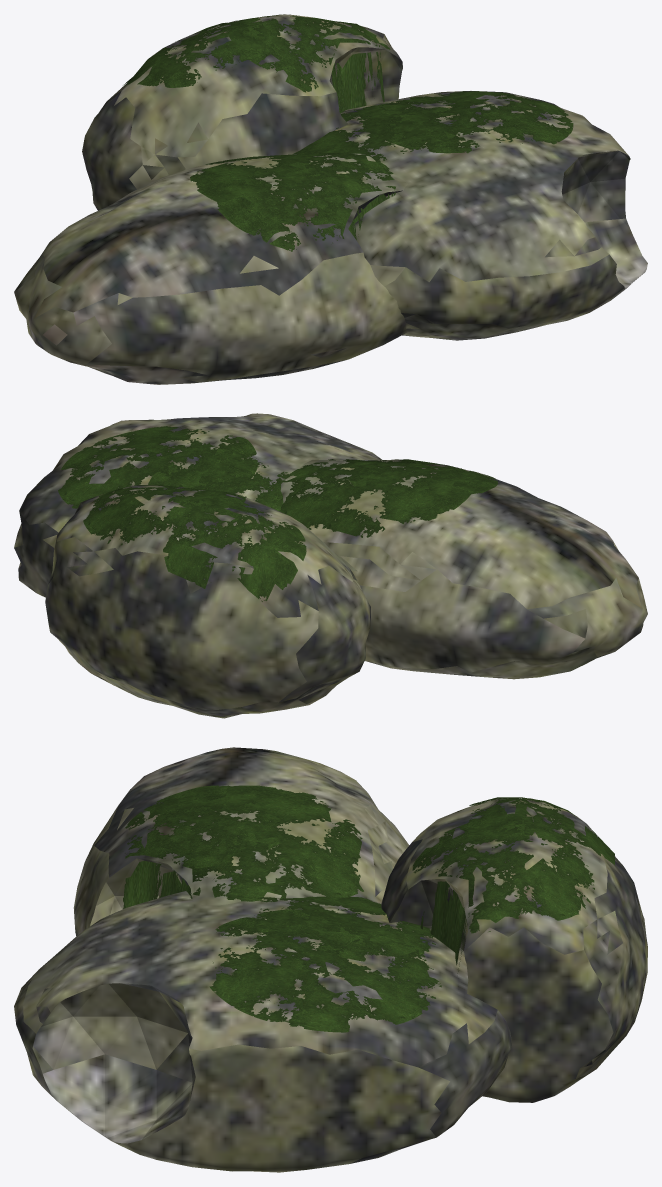
The model's file is v6_fractured.glb.
3 views of the same model, one above another, from view 1: azimuth 30°, elevation 25°; view 2: azimuth 150°, elevation 25°; view 3: azimuth 270°, elevation 25° (orthographic). The views are drawn at different scales.
Parts seen in each view (by area): view 1: sacred_weathered_stone_surface, v6_surface_moss_surface; view 2: sacred_weathered_stone_surface, v6_surface_moss_surface; view 3: sacred_weathered_stone_surface, v6_surface_moss_surface.
Part boxes in pixels (bbox=[...]): sacred_weathered_stone_surface: bbox=[14, 14, 647, 384]; v6_surface_moss_surface: bbox=[122, 14, 573, 251]; sacred_weathered_stone_surface: bbox=[14, 413, 647, 718]; v6_surface_moss_surface: bbox=[58, 426, 498, 601]; sacred_weathered_stone_surface: bbox=[14, 747, 647, 1172]; v6_surface_moss_surface: bbox=[123, 785, 614, 1032].
Bounding box in the file's own units: 0.732 × 0.2555 × 0.6052.
2 materials, 2 textured.
